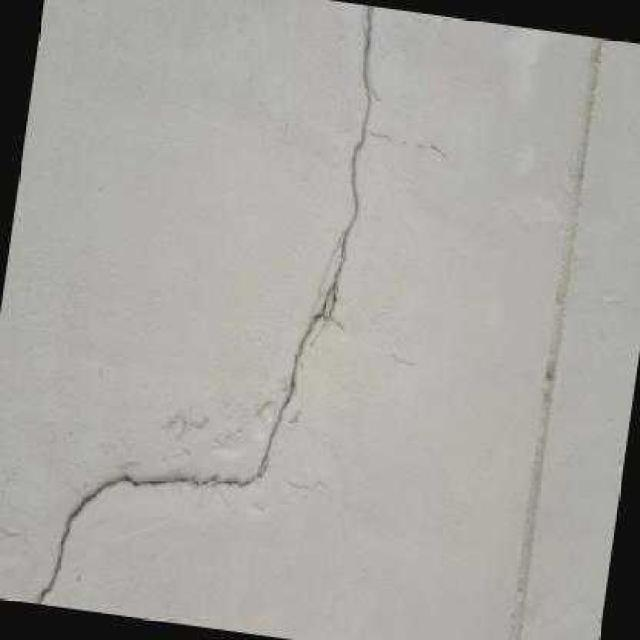D00: (34, 3, 369, 603)
